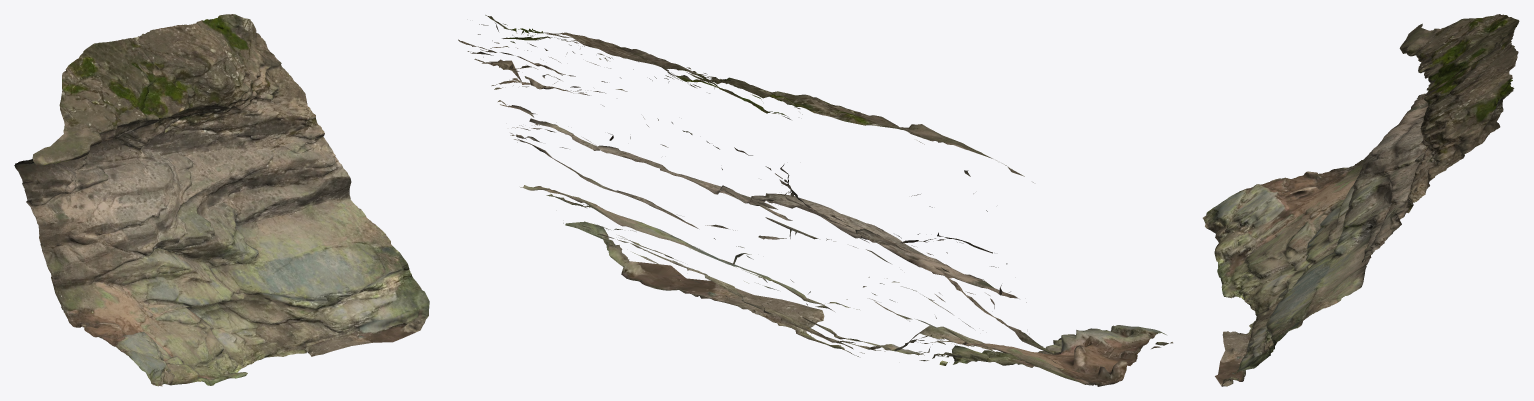
File: rock_face_01.glb
The picture shows the model from 3 angles, left to right: view 1: azimuth 30°, elevation 25°; view 2: azimuth 150°, elevation 25°; view 3: azimuth 270°, elevation 25°; orthographic projection. The views are drawn at different scales.
Parts seen in each view (by area): view 1: rock_face_01_lod0; view 2: rock_face_01_lod0; view 3: rock_face_01_lod0.
Boxes of the visible parts, <box> form: rock_face_01_lod0: <box>14,14,429,386</box>; rock_face_01_lod0: <box>458,15,1172,386</box>; rock_face_01_lod0: <box>1202,14,1519,386</box>.
Size of what is drawn, in the model's own units: 4.95 by 3.56 by 3.83.
1 material, 1 textured.
